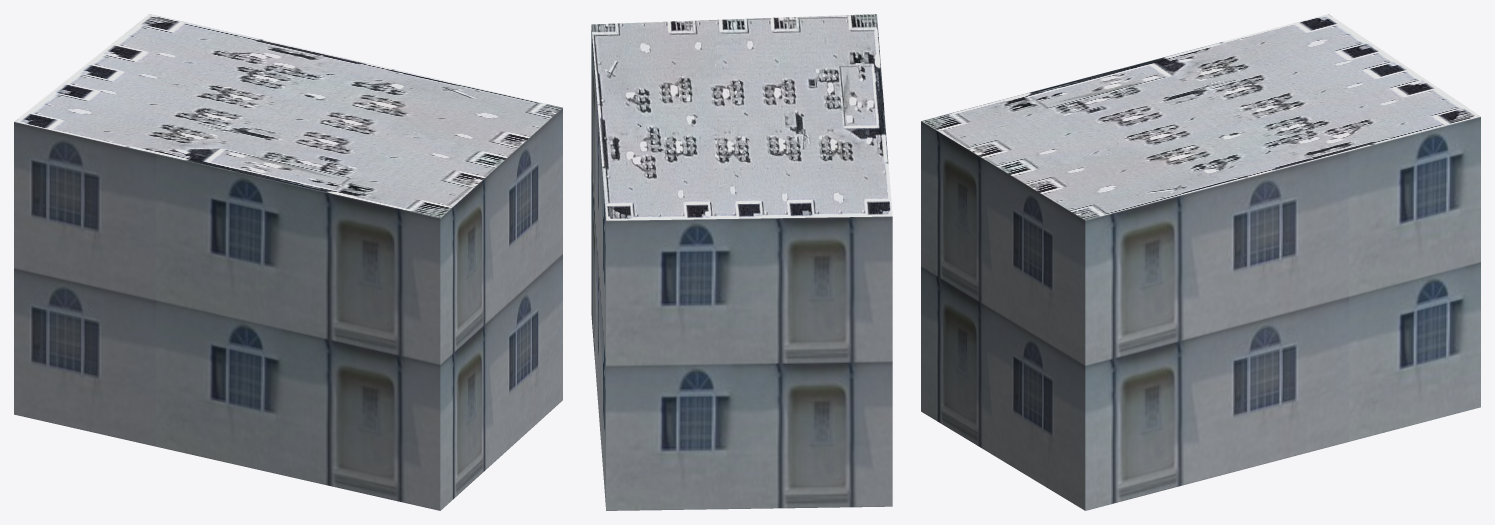
File: ResTex__1500.fbx
3 views of the same model, side by side, from view 1: azimuth 30°, elevation 25°; view 2: azimuth 150°, elevation 25°; view 3: azimuth 270°, elevation 25° (orthographic).
Visible parts, largest first — view 1: CityEngineMaterial_17_m, CityEngineMaterial_m; view 2: CityEngineMaterial_17_m, CityEngineMaterial_m; view 3: CityEngineMaterial_17_m, CityEngineMaterial_m.
Boxes of the visible parts, box(x1,y1,x2,y2) form: CityEngineMaterial_17_m: box(14, 108, 562, 510); CityEngineMaterial_m: box(14, 14, 562, 218); CityEngineMaterial_17_m: box(591, 25, 892, 510); CityEngineMaterial_m: box(591, 14, 892, 220); CityEngineMaterial_17_m: box(921, 117, 1480, 510); CityEngineMaterial_m: box(921, 14, 1480, 220).
Bounding box in the file's own units: 9.15 × 6 × 10.48.
Materials: 2 (2 with a texture image).
